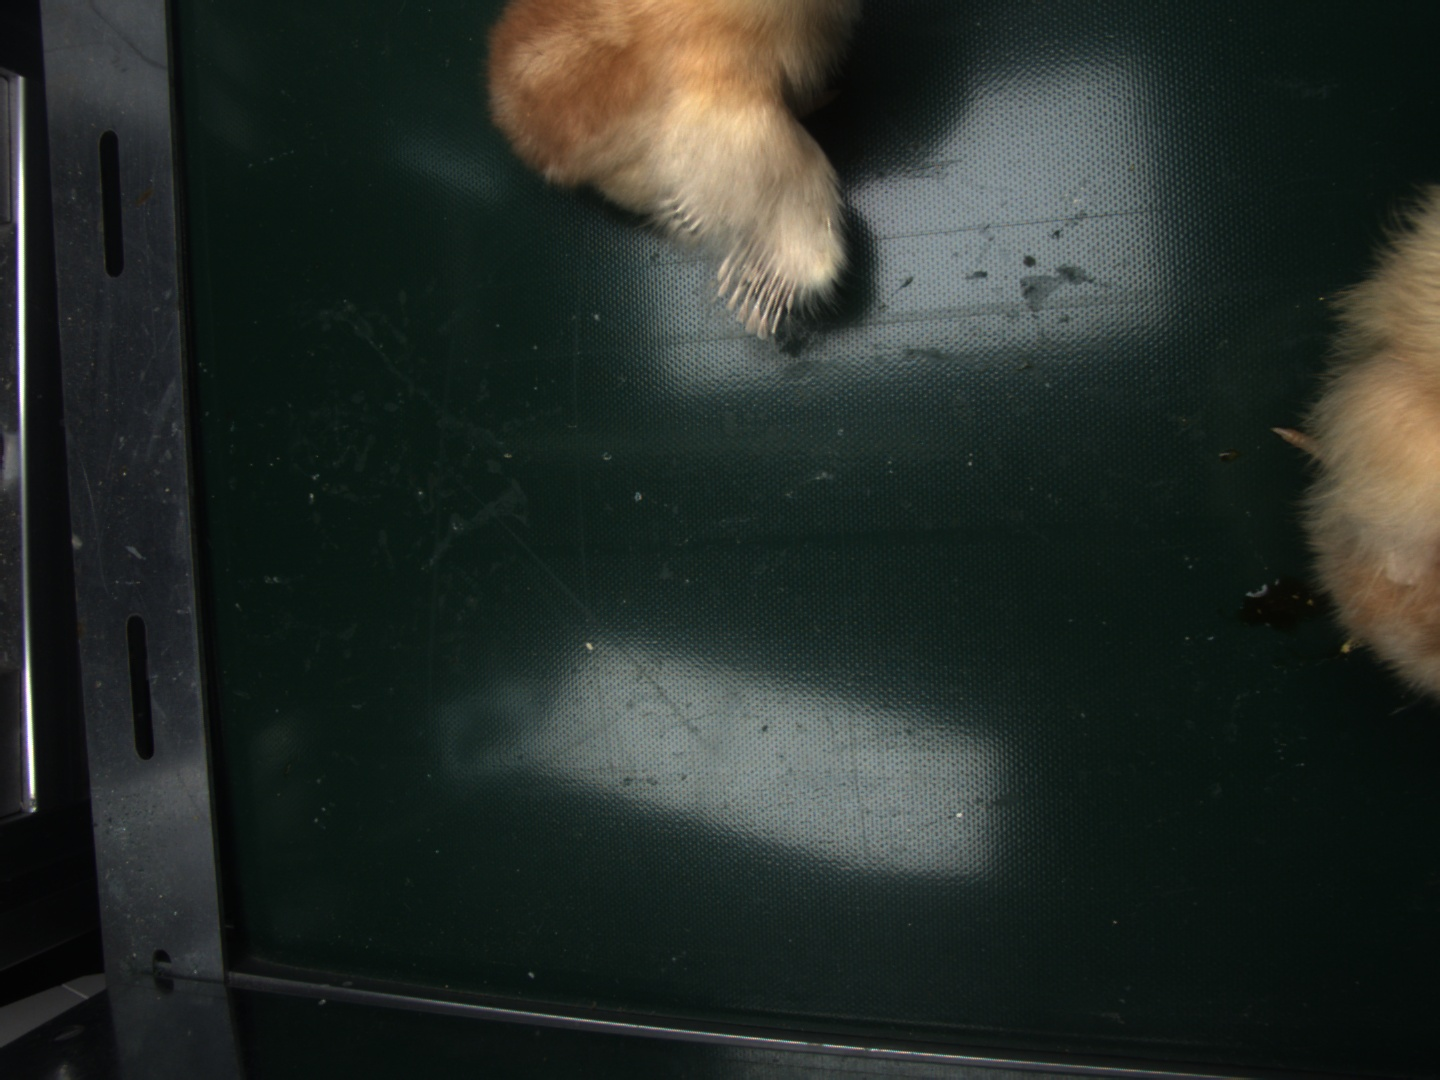female: (715, 245, 801, 338)
